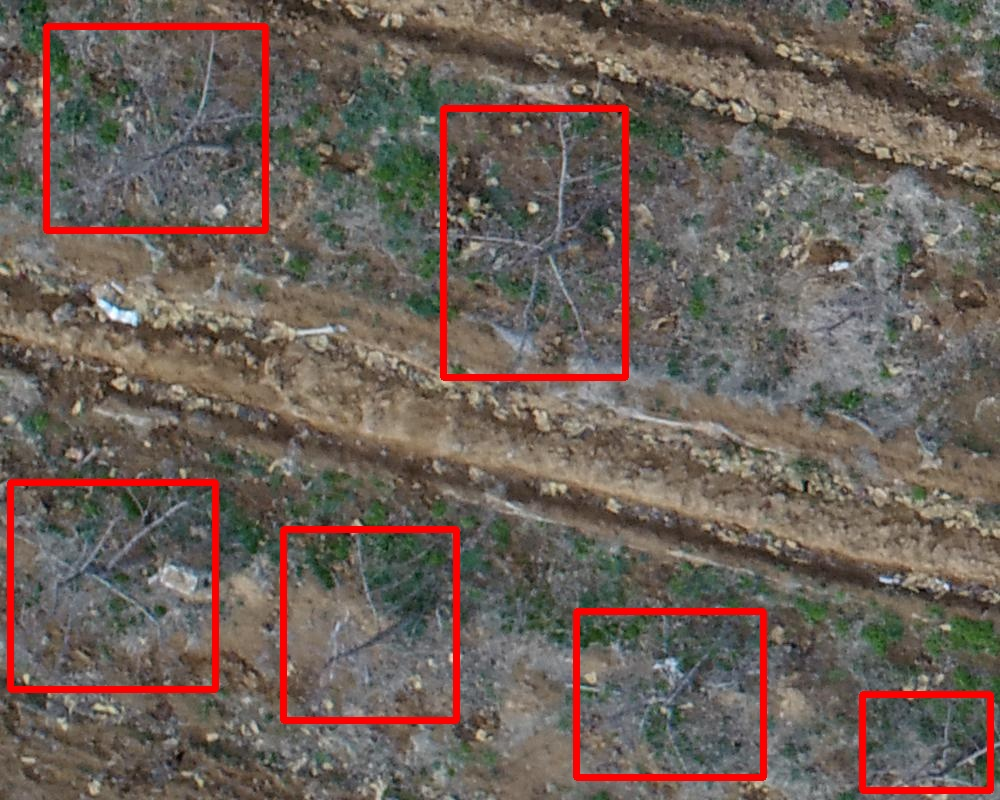apple: (443, 108, 625, 377), (46, 26, 265, 230), (10, 482, 215, 689), (283, 529, 456, 720), (576, 611, 763, 777), (862, 694, 990, 790)
